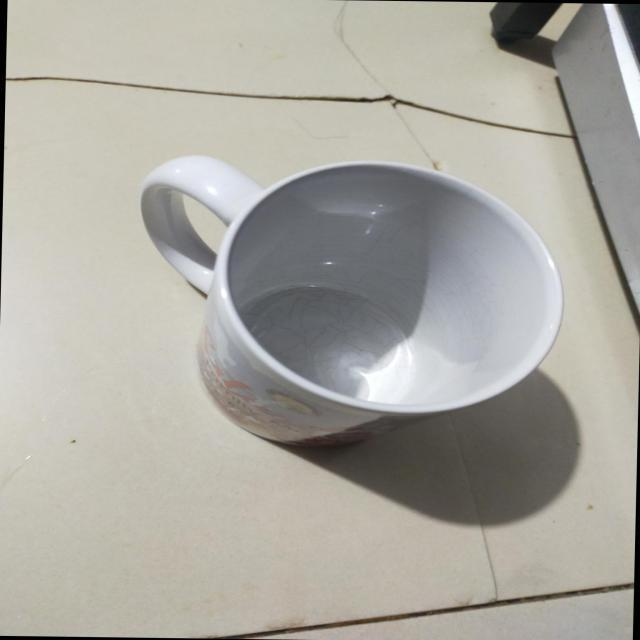taza: (142, 142, 564, 448)
